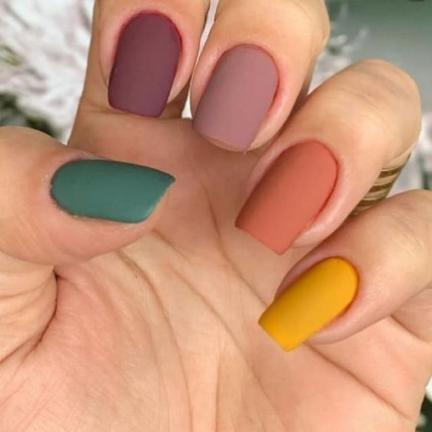Nail: (236, 142, 338, 253), (258, 257, 359, 351), (193, 45, 279, 150), (51, 159, 175, 223), (108, 13, 182, 117)
